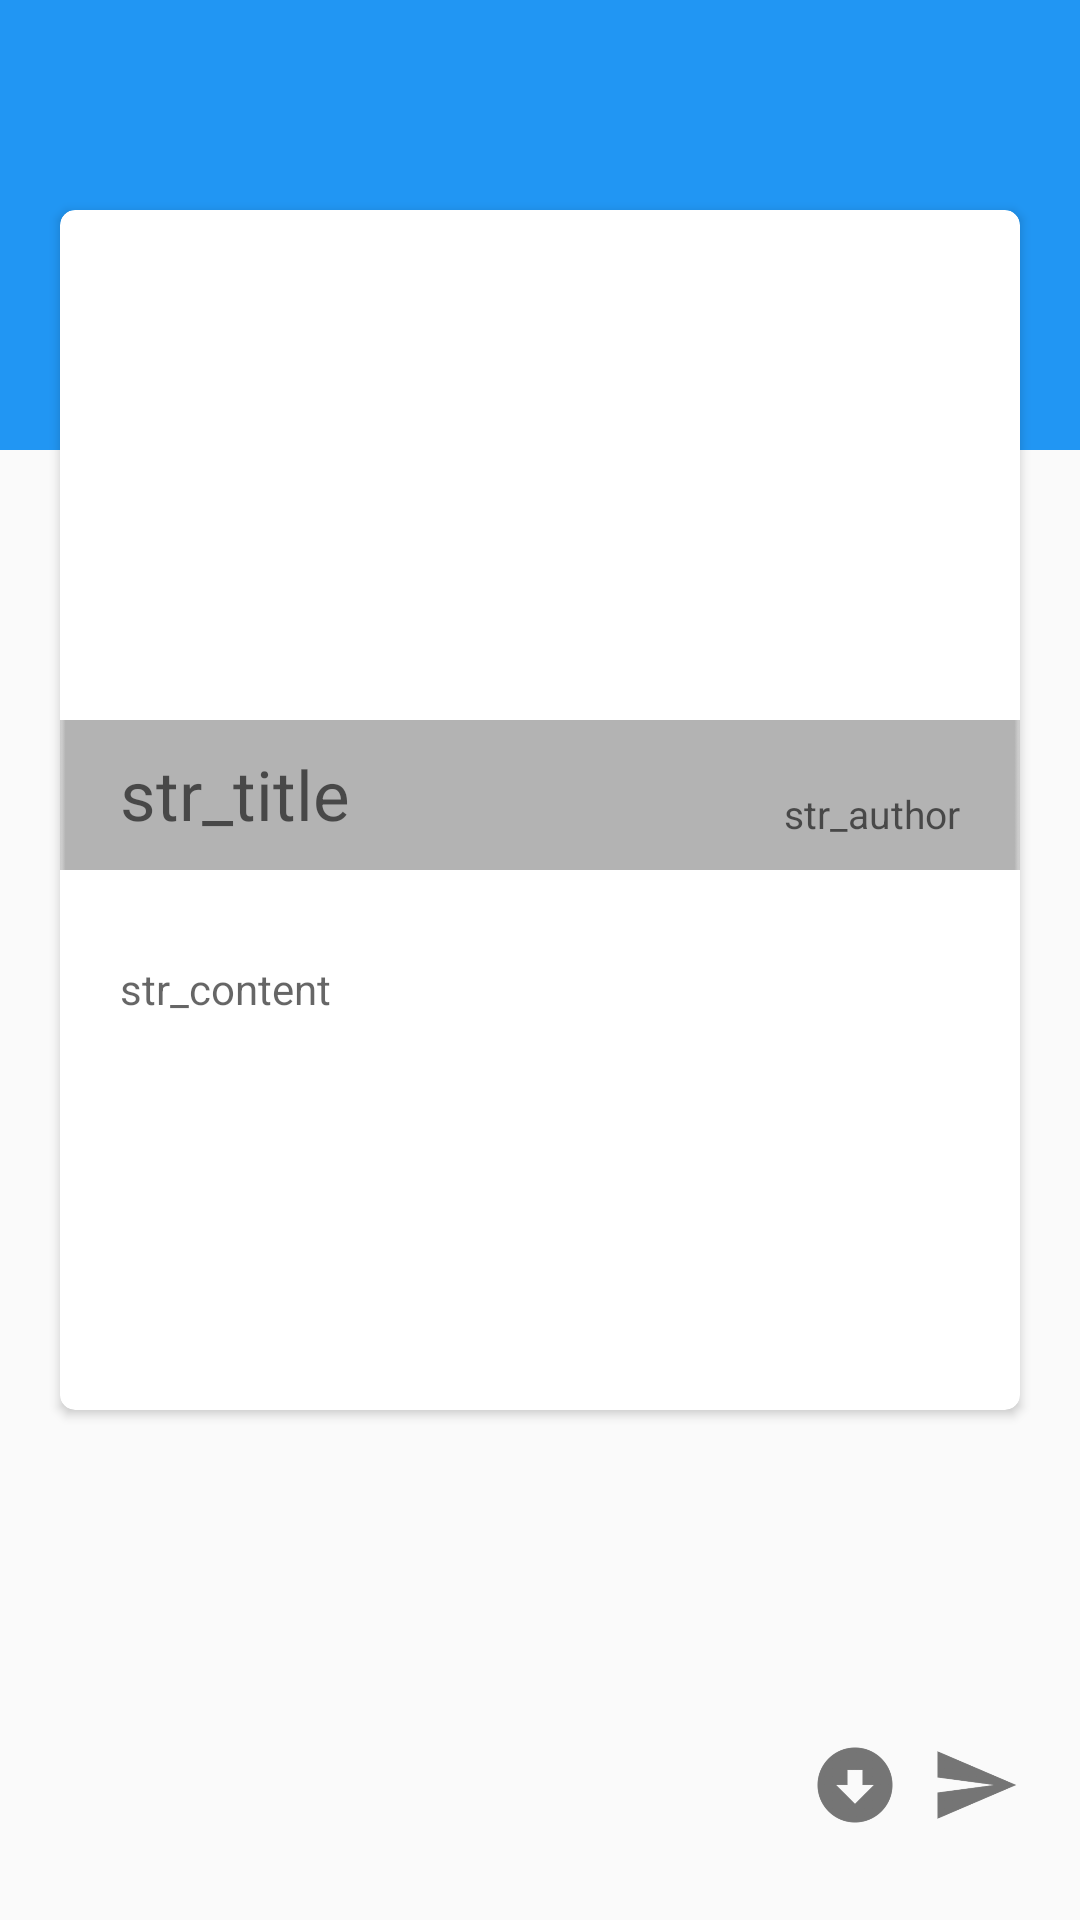

Icon click points for this 1080*1920 phone screenshot, format (x,y):
arrow down circle: (855,1785)
send: (976,1785)
